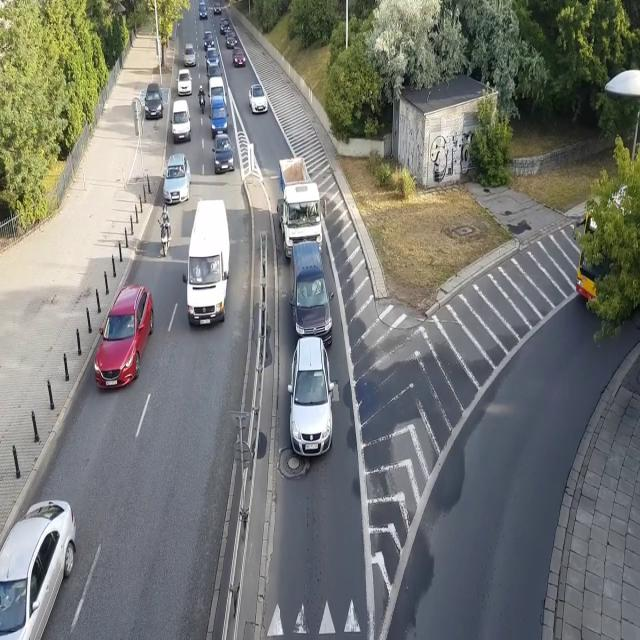bus: (572, 192, 640, 324)
car: (0, 498, 77, 639), (92, 282, 154, 392), (287, 336, 334, 458), (163, 154, 191, 204), (213, 131, 235, 174), (143, 82, 164, 121), (248, 84, 268, 116), (176, 68, 193, 95), (183, 42, 197, 68), (231, 49, 247, 68), (202, 28, 215, 50), (206, 65, 224, 78), (206, 50, 220, 66), (224, 32, 238, 48), (219, 18, 231, 34), (212, 1, 223, 15)
motorcycle: (158, 202, 172, 256), (198, 85, 206, 117)
truck: (277, 156, 328, 262)
van: (181, 196, 230, 332), (290, 239, 334, 352), (170, 99, 193, 145), (209, 98, 229, 137), (208, 76, 228, 108), (198, 1, 209, 22)
